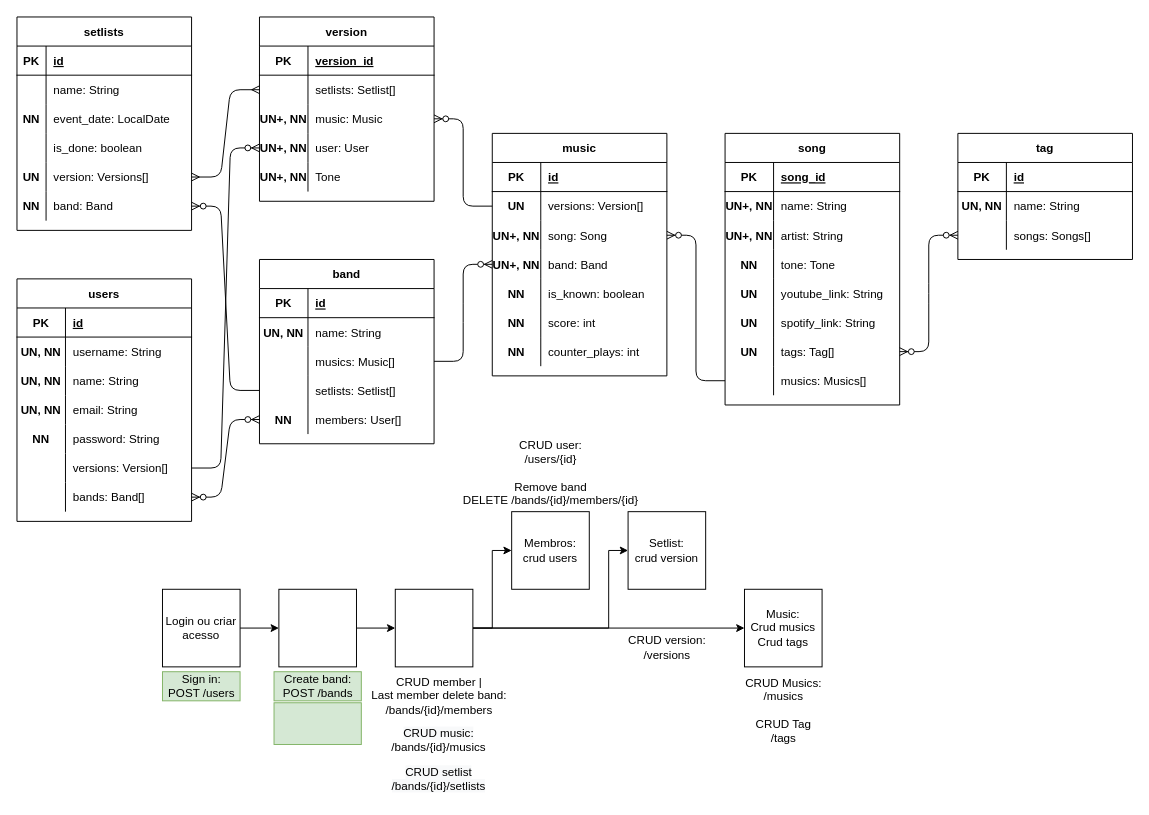
Some shapes in this 1149 by 815 pixel diagram are drawn without their labels. The shapes that lost their labels are listed below. From the top down, each one's centre as x and y in pixels, then its label:
At pixel 317 627: "Tela de bandas (criar ou selecionar)".
At pixel 433 627: "Banda selecionada (crud membro, crud musicas, crud setlists)".
At pixel 317 723: "Select band: GET /bands/{id}".
